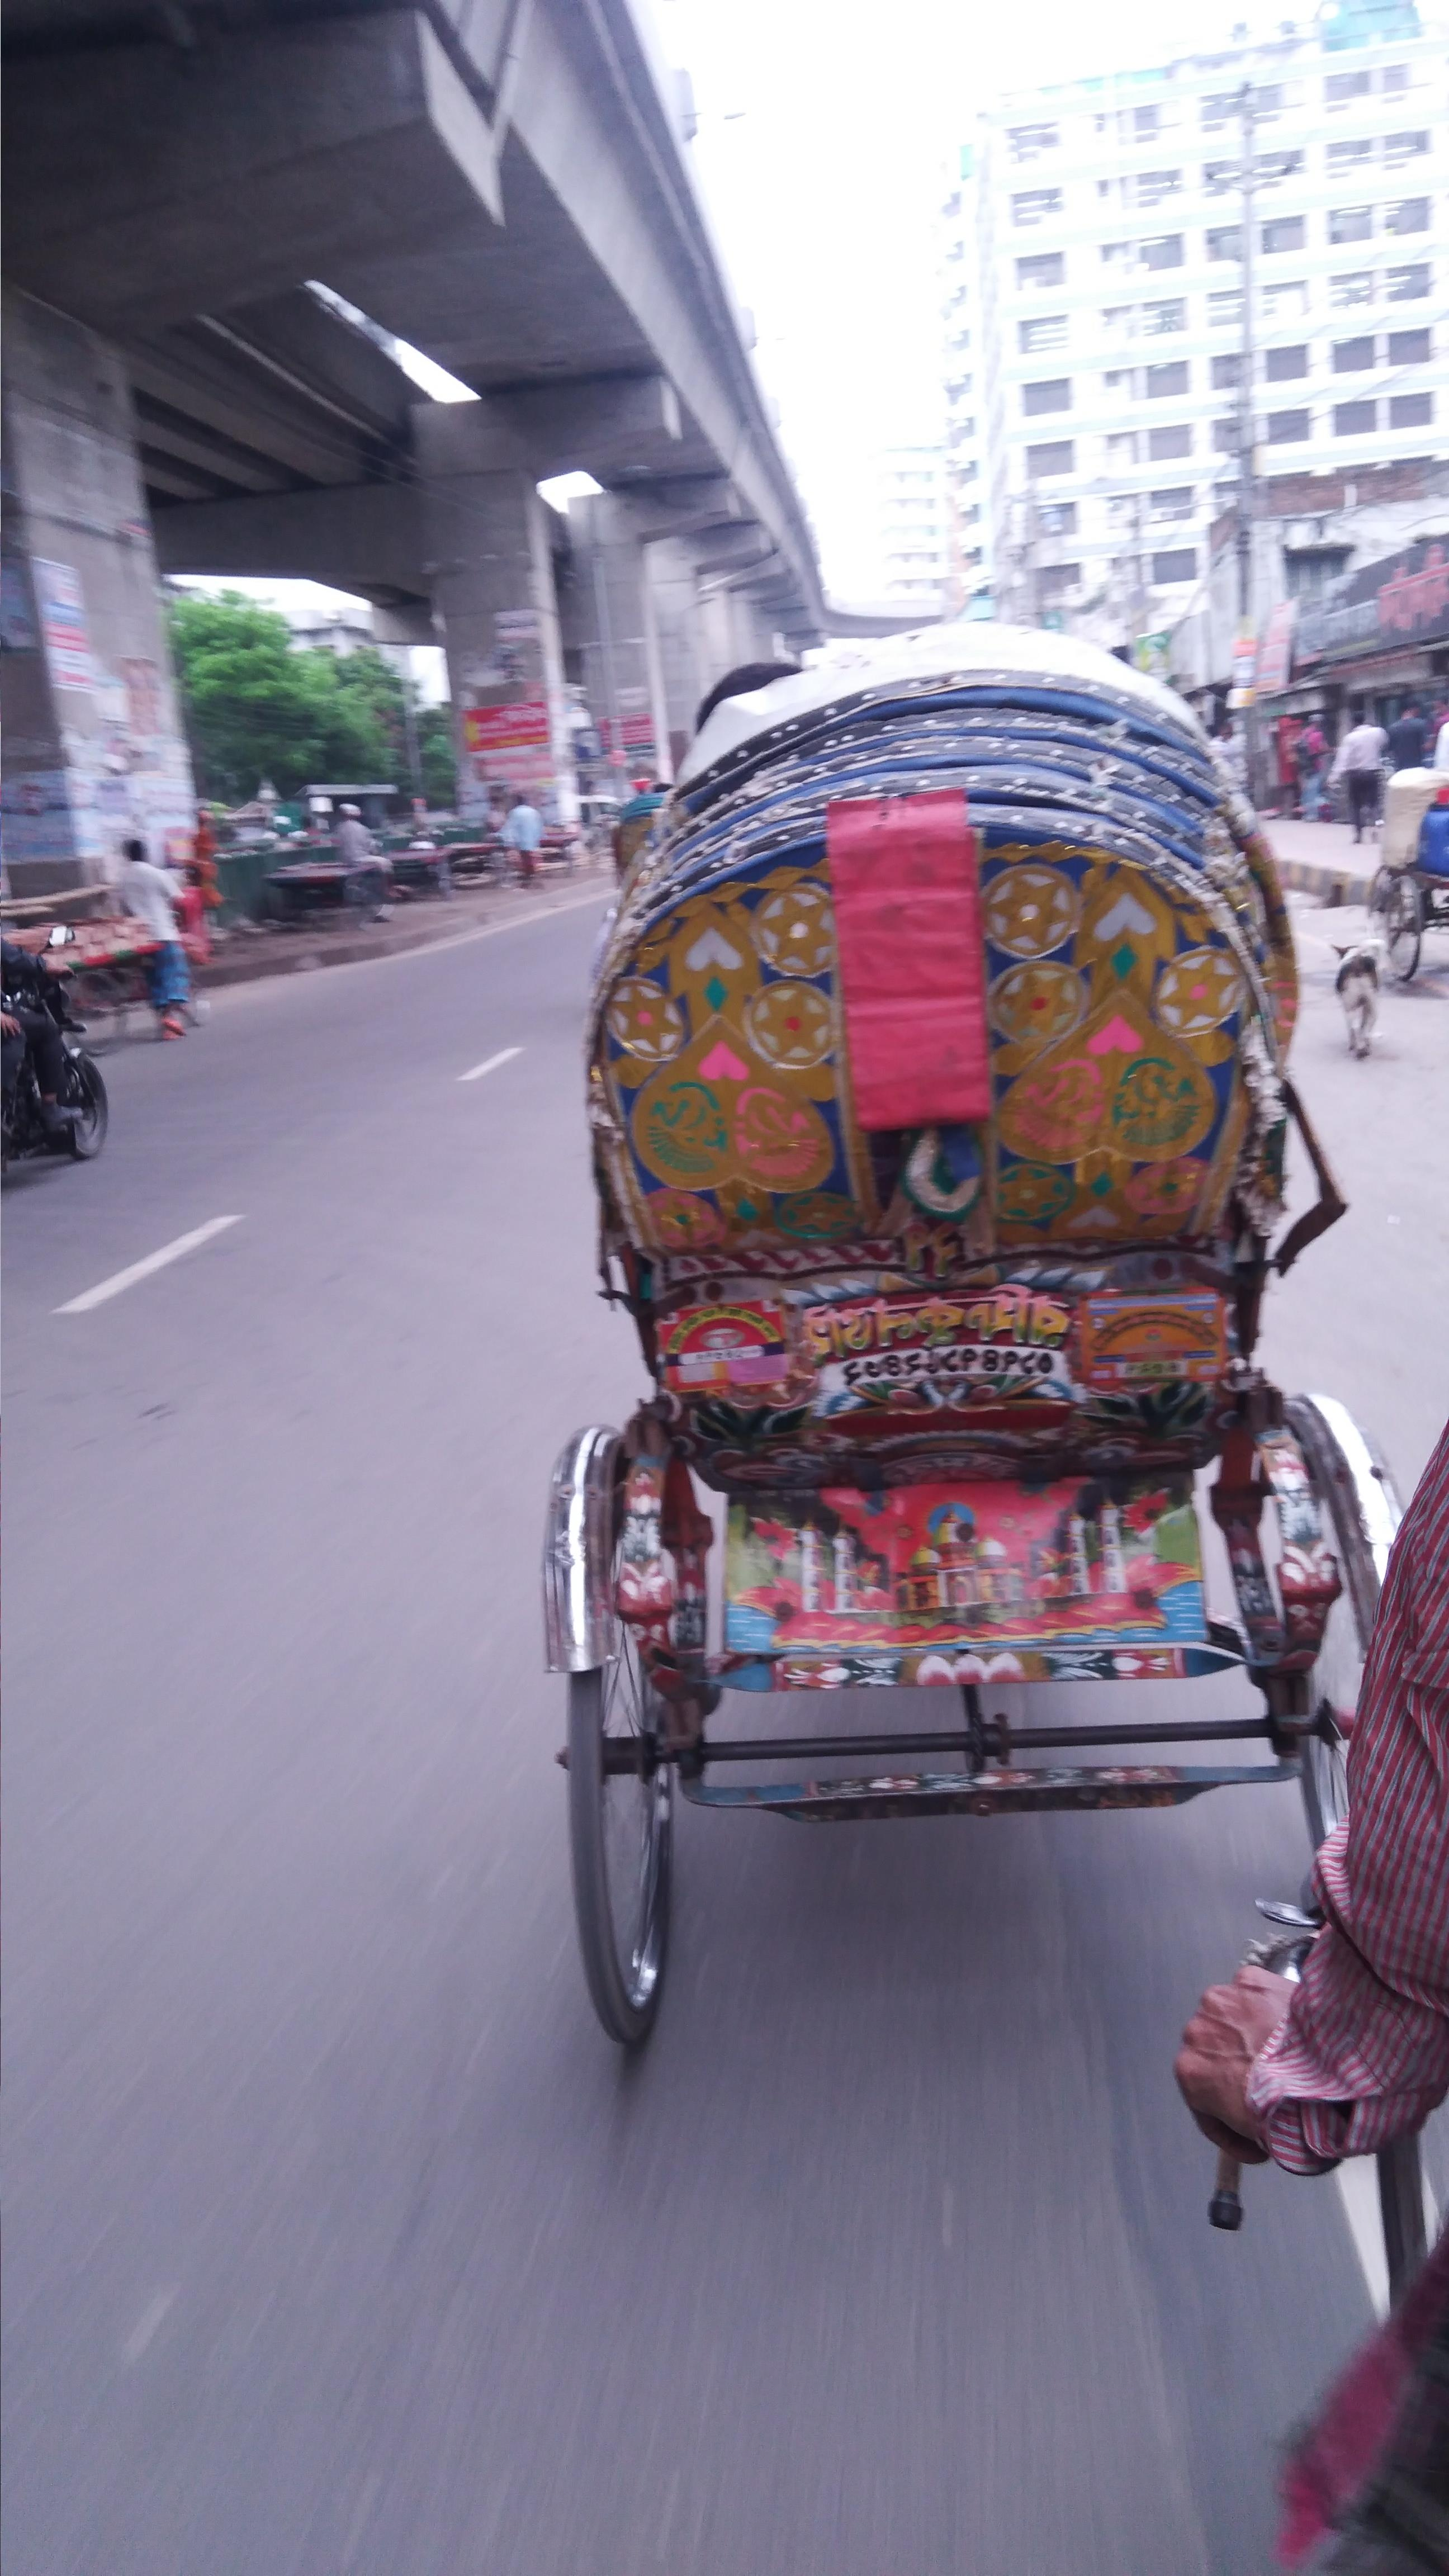Rickshaw: (490, 575, 1417, 2045)
